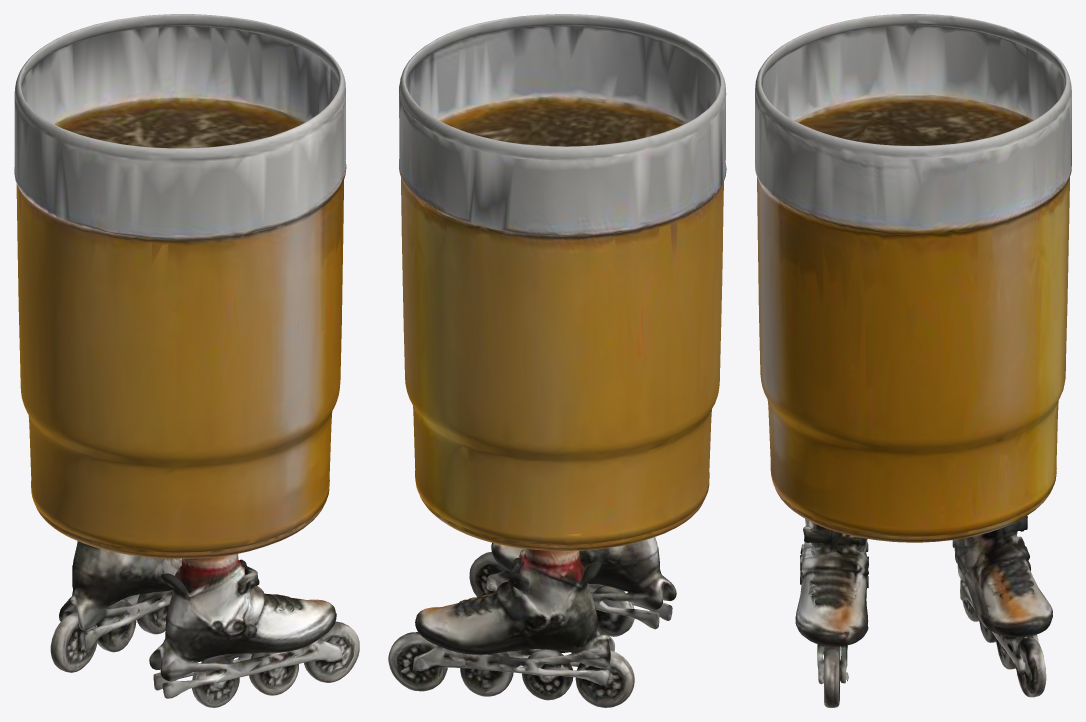
The model's file is birra.glb.
The picture shows the model from 3 angles, left to right: view 1: azimuth 30°, elevation 25°; view 2: azimuth 150°, elevation 25°; view 3: azimuth 270°, elevation 25°; orthographic projection. The views are drawn at different scales.
Visible parts, largest first — view 1: Bicchiere, PattinoD, PattinoS; view 2: Bicchiere, PattinoS, PattinoD; view 3: Bicchiere, PattinoS, PattinoD.
Part boxes in pixels (left/top/right/bottom): Bicchiere: left=14, top=14, right=346, bottom=558; PattinoD: left=149, top=554, right=359, bottom=707; PattinoS: left=50, top=541, right=181, bottom=672; Bicchiere: left=399, top=14, right=726, bottom=551; PattinoS: left=388, top=548, right=634, bottom=707; PattinoD: left=469, top=537, right=676, bottom=636; Bicchiere: left=755, top=14, right=1071, bottom=542; PattinoS: left=952, top=516, right=1052, bottom=697; PattinoD: left=795, top=519, right=868, bottom=707.
Bounding box in the file's own units: 0.235 × 0.4612 × 0.2304.
Materials: 1 (1 with a texture image).
